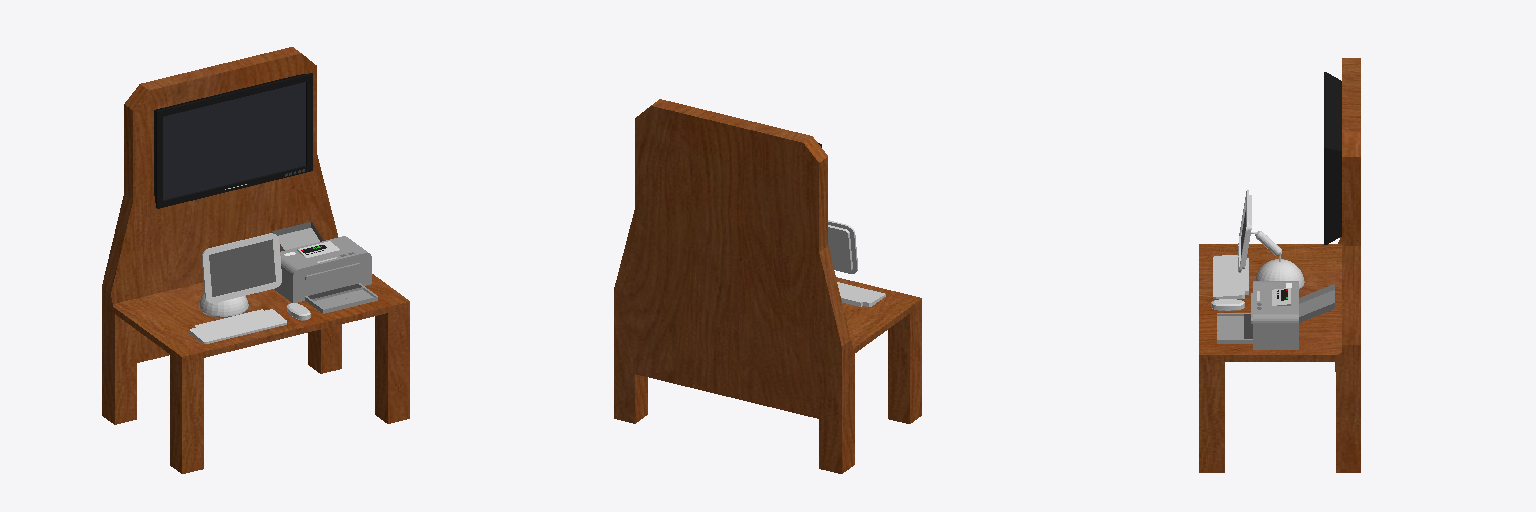
The picture shows the model from 3 angles: view 1: azimuth 30°, elevation 25°; view 2: azimuth 150°, elevation 25°; view 3: azimuth 270°, elevation 25°; orthographic projection.
Parts seen in each view (by area): view 1: Mesh27 Component_56_1 Model, Mesh26 TV_FlatScreen_42in1976_05_02_12_15_25__0700_1 Component_5, Mesh12 Printing_Fax_Scanner1976_05_02_11_27_07__0700_1 Component, Mesh20 Computer_Desktop_iMac_DomeBase1976_05_02_11_28_57__0700_1, Mesh18 Computer_Desktop_iMac_DomeBase1976_05_02_11_28_57__0700_1, Mesh19 Computer_Desktop_iMac_DomeBase1976_05_02_11_28_57__0700_1; view 2: Mesh27 Component_56_1 Model, Mesh20 Computer_Desktop_iMac_DomeBase1976_05_02_11_28_57__0700_1, Mesh18 Computer_Desktop_iMac_DomeBase1976_05_02_11_28_57__0700_1; view 3: Mesh27 Component_56_1 Model, Mesh12 Printing_Fax_Scanner1976_05_02_11_27_07__0700_1 Component, Mesh26 TV_FlatScreen_42in1976_05_02_12_15_25__0700_1 Component_5, Mesh18 Computer_Desktop_iMac_DomeBase1976_05_02_11_28_57__0700_1, Mesh19 Computer_Desktop_iMac_DomeBase1976_05_02_11_28_57__0700_1, Mesh20 Computer_Desktop_iMac_DomeBase1976_05_02_11_28_57__0700_1.
Part boxes in pixels (left/top/right/bottom): Mesh27 Component_56_1 Model: left=102, top=47, right=409, bottom=473; Mesh26 TV_FlatScreen_42in1976_05_02_12_15_25__0700_1 Component_5: left=154, top=73, right=312, bottom=208; Mesh12 Printing_Fax_Scanner1976_05_02_11_27_07__0700_1 Component: left=272, top=222, right=377, bottom=313; Mesh20 Computer_Desktop_iMac_DomeBase1976_05_02_11_28_57__0700_1: left=202, top=233, right=281, bottom=302; Mesh18 Computer_Desktop_iMac_DomeBase1976_05_02_11_28_57__0700_1: left=190, top=309, right=286, bottom=343; Mesh19 Computer_Desktop_iMac_DomeBase1976_05_02_11_28_57__0700_1: left=199, top=293, right=248, bottom=317; Mesh27 Component_56_1 Model: left=614, top=99, right=921, bottom=473; Mesh20 Computer_Desktop_iMac_DomeBase1976_05_02_11_28_57__0700_1: left=828, top=220, right=857, bottom=273; Mesh18 Computer_Desktop_iMac_DomeBase1976_05_02_11_28_57__0700_1: left=837, top=282, right=885, bottom=306; Mesh27 Component_56_1 Model: left=1199, top=58, right=1360, bottom=472; Mesh12 Printing_Fax_Scanner1976_05_02_11_27_07__0700_1 Component: left=1217, top=281, right=1334, bottom=349; Mesh26 TV_FlatScreen_42in1976_05_02_12_15_25__0700_1 Component_5: left=1324, top=72, right=1341, bottom=244; Mesh18 Computer_Desktop_iMac_DomeBase1976_05_02_11_28_57__0700_1: left=1213, top=255, right=1248, bottom=298; Mesh19 Computer_Desktop_iMac_DomeBase1976_05_02_11_28_57__0700_1: left=1255, top=259, right=1304, bottom=289; Mesh20 Computer_Desktop_iMac_DomeBase1976_05_02_11_28_57__0700_1: left=1238, top=190, right=1251, bottom=272.
Size of the model in its own units: 1.47 by 1.99 by 0.902.
13 materials, 1 textured.